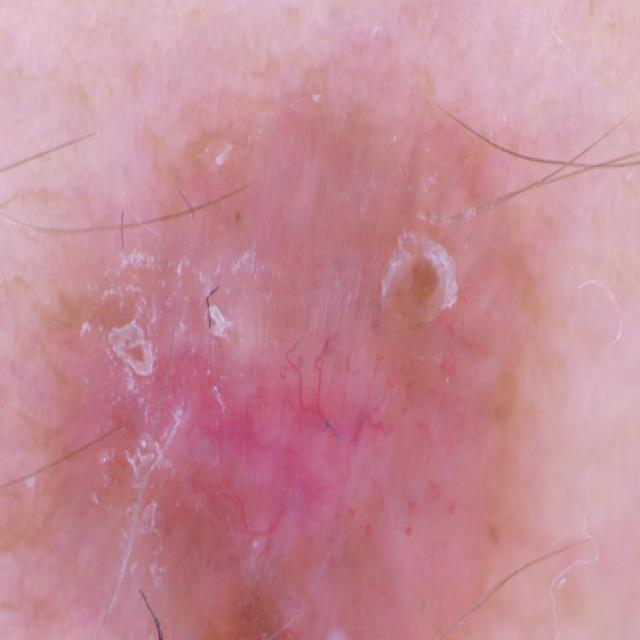Carcinoma: (36, 144, 534, 640)
